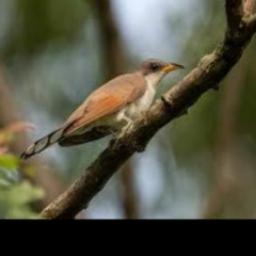Cuckoo: (21, 58, 186, 160)
